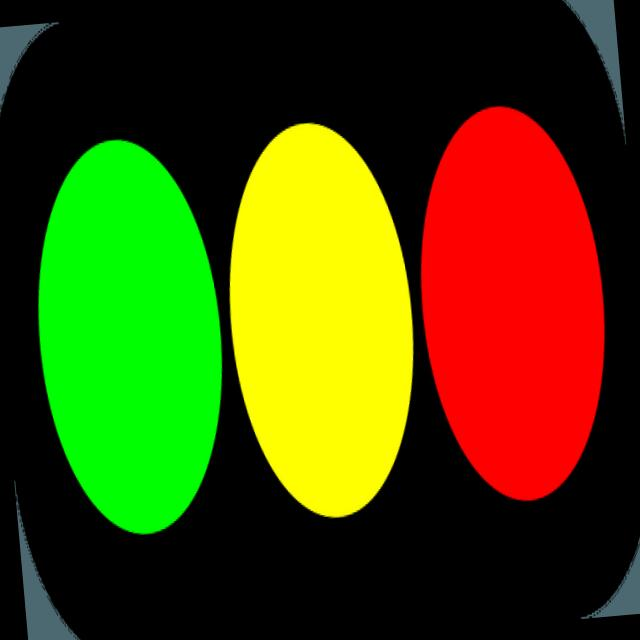green-lights: (23, 141, 235, 555)
red-lights: (416, 118, 606, 508)
yellow-lights: (226, 140, 422, 529)
